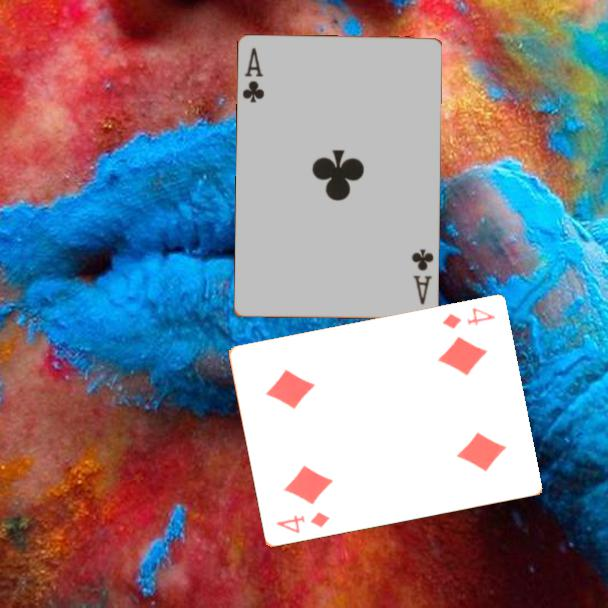c01: (409, 246, 437, 308), (239, 44, 267, 106)
d04: (273, 509, 332, 537), (439, 304, 498, 332)
